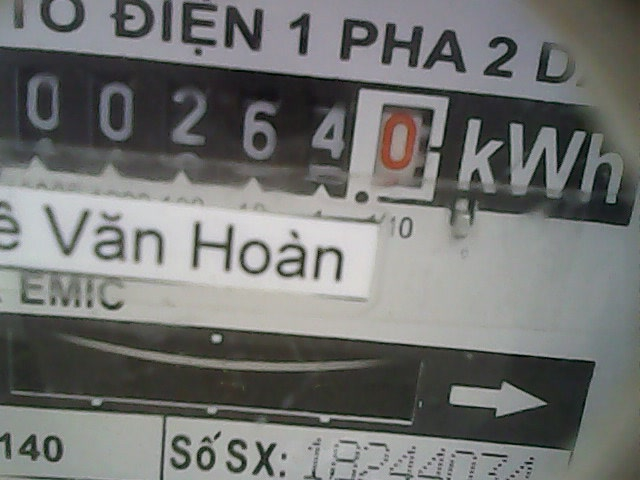phy_plate: (3, 42, 459, 209)
